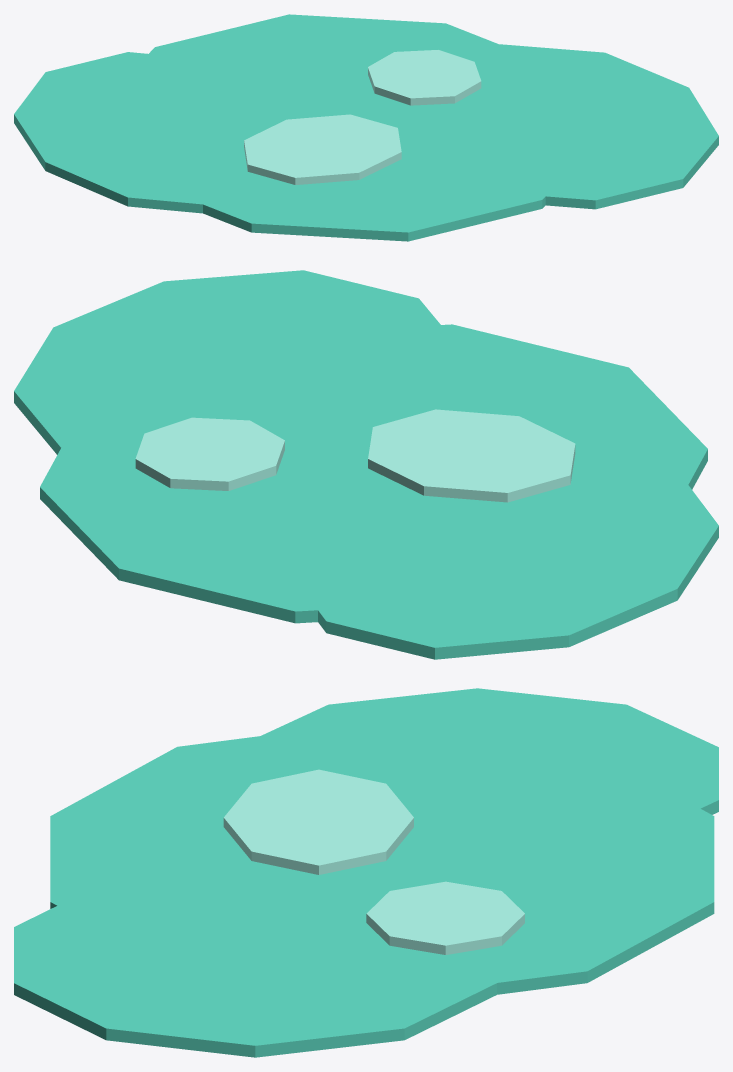
File: env_r14_ectoplasm_puddle.glb
The picture shows the model from 3 angles, top to bottom: view 1: azimuth 30°, elevation 25°; view 2: azimuth 150°, elevation 25°; view 3: azimuth 270°, elevation 25°; orthographic projection. The views are drawn at different scales.
Parts seen in each view (by area): view 1: env_r14_ectoplasm_puddle; view 2: env_r14_ectoplasm_puddle; view 3: env_r14_ectoplasm_puddle.
Boxes of the visible parts, x1=… form: env_r14_ectoplasm_puddle: x1=14, y1=14, x2=718, y2=241; env_r14_ectoplasm_puddle: x1=14, y1=270, x2=718, y2=659; env_r14_ectoplasm_puddle: x1=14, y1=688, x2=718, y2=1057.
Bounding box in the file's own units: 3.6 × 0.1 × 3.
Materials: 1 (1 with a texture image).
